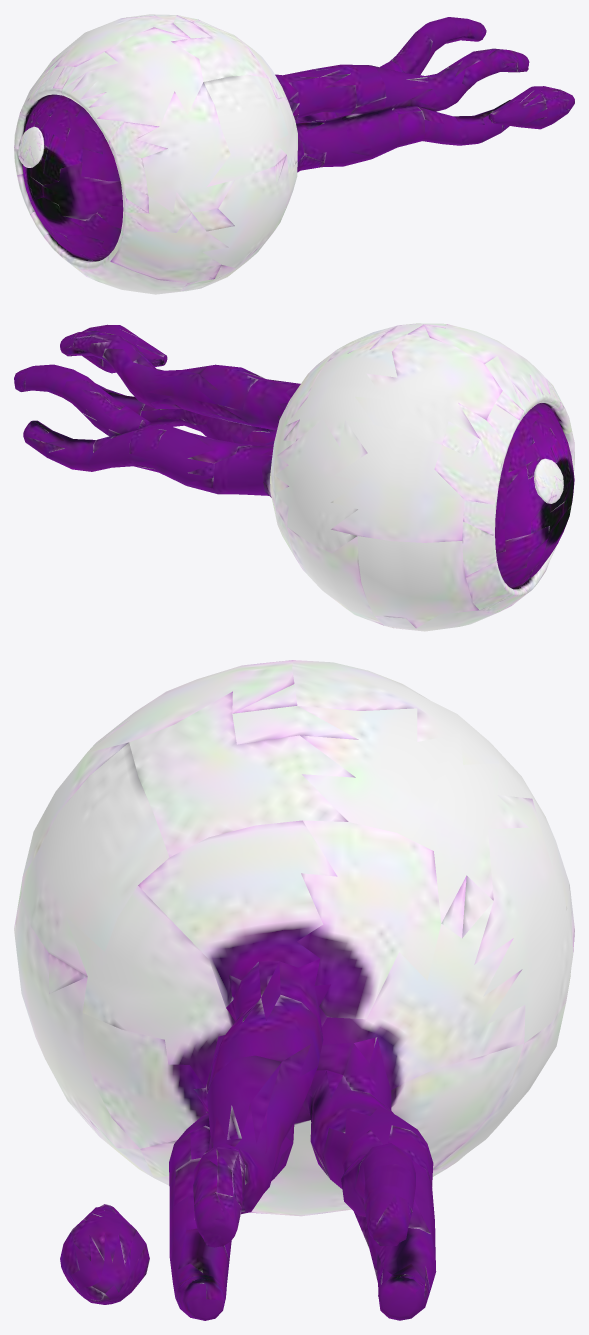
The model's file is proj_eye.glb.
3 renders of one model, top to bottom at view 1: azimuth 30°, elevation 25°; view 2: azimuth 150°, elevation 25°; view 3: azimuth 270°, elevation 25°, orthographic. The views are drawn at different scales.
Visible parts, largest first — view 1: proj_eye; view 2: proj_eye; view 3: proj_eye.
Boxes of the visible parts, x1,y1,x2,y2 form: proj_eye: (14, 14, 574, 294); proj_eye: (14, 323, 574, 631); proj_eye: (14, 660, 574, 1320).
Bounding box in the file's own units: 1 × 0.4918 × 0.498.
1 material, 1 textured.
